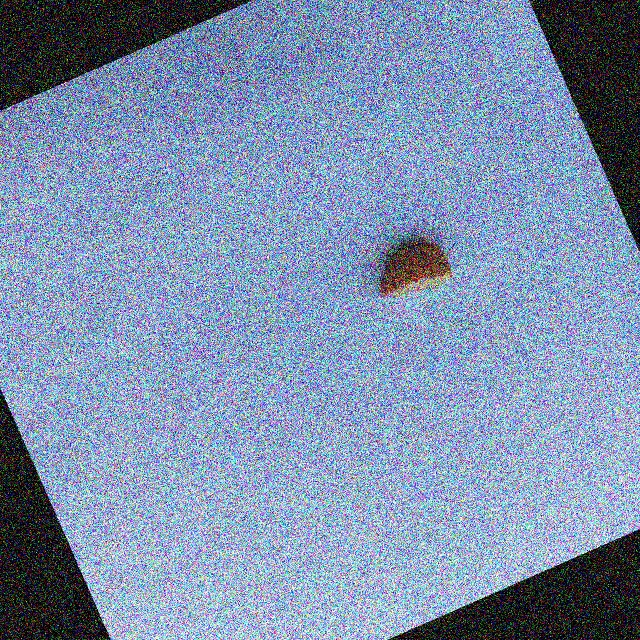grade4: (355, 222, 464, 316)
